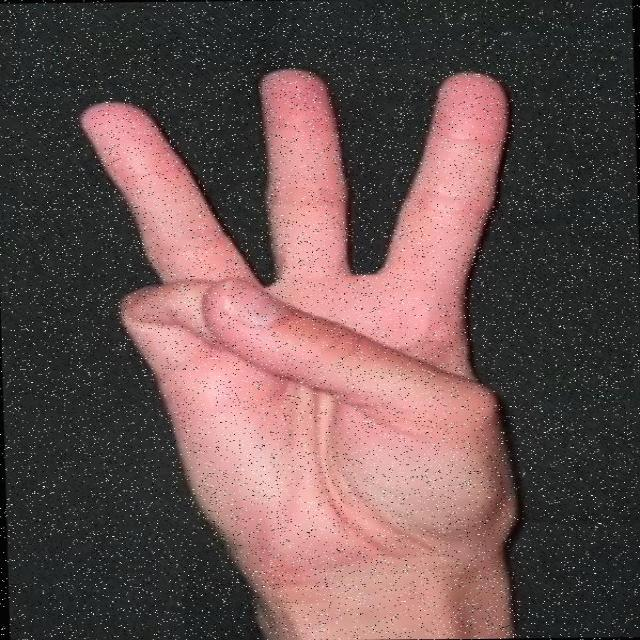W: (73, 56, 548, 592)
